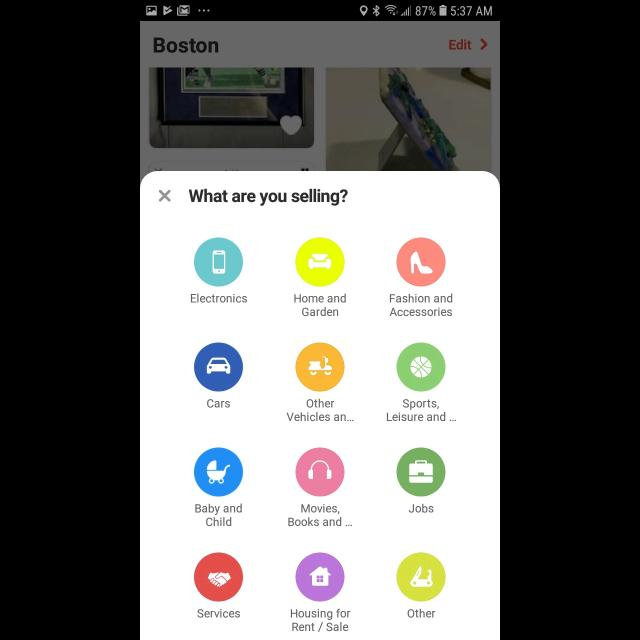icon: (396, 448, 446, 497), (296, 552, 344, 602), (159, 190, 171, 202)
image: (396, 342, 446, 392), (194, 447, 244, 497), (396, 552, 446, 602), (194, 342, 243, 392), (194, 552, 243, 602), (396, 238, 446, 286), (296, 342, 344, 392), (194, 238, 243, 286), (296, 448, 344, 497), (296, 238, 344, 286)
panel: (140, 171, 499, 640)
text: (188, 189, 348, 207), (286, 398, 354, 422), (387, 399, 457, 421), (291, 608, 351, 632), (288, 504, 352, 526), (390, 294, 452, 316), (294, 294, 346, 316), (195, 504, 242, 526), (192, 293, 248, 303), (198, 609, 240, 619), (408, 608, 437, 618), (408, 503, 434, 512), (208, 399, 230, 408)
uppertaskbar: (140, 1, 500, 22)
